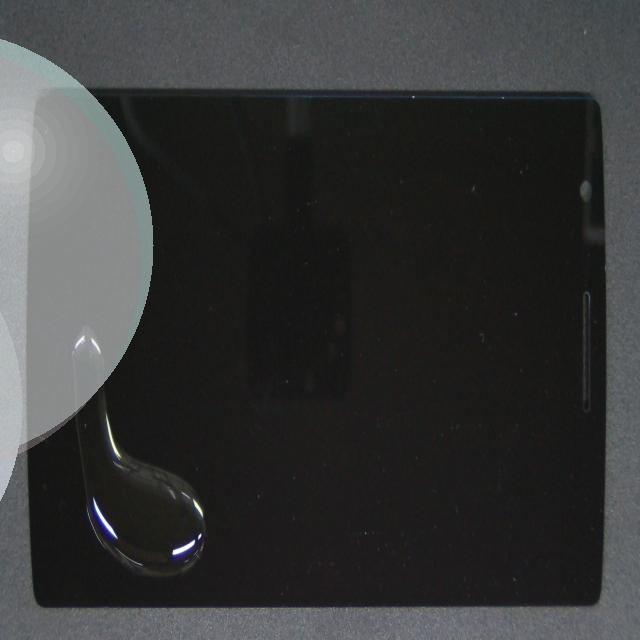oil: (153, 283, 269, 640)
